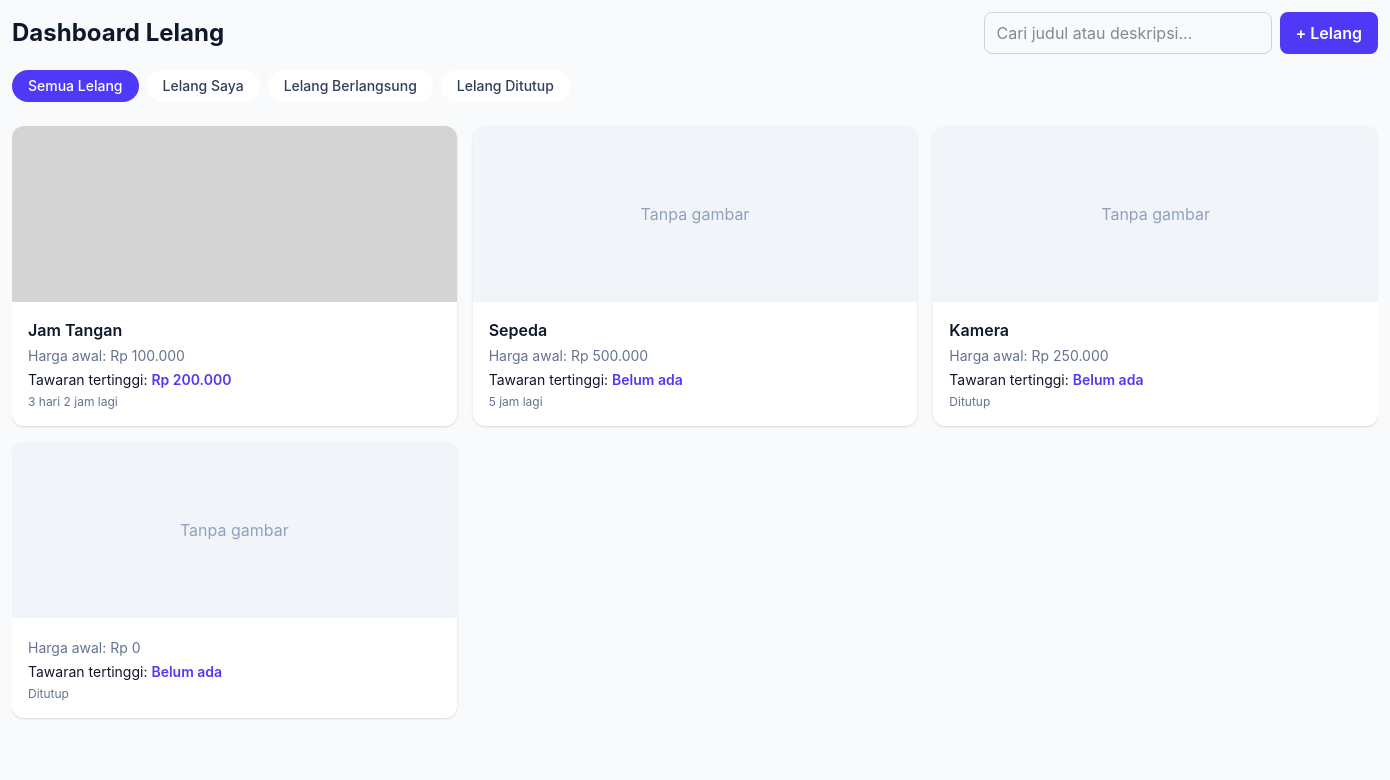
Test: pencarian › memfilter berdasarkan deskripsi
In the search field with placeholder "Cari judul atau deskripsi...": x=1128, y=33 [984,12,1272,54], type "lipat"
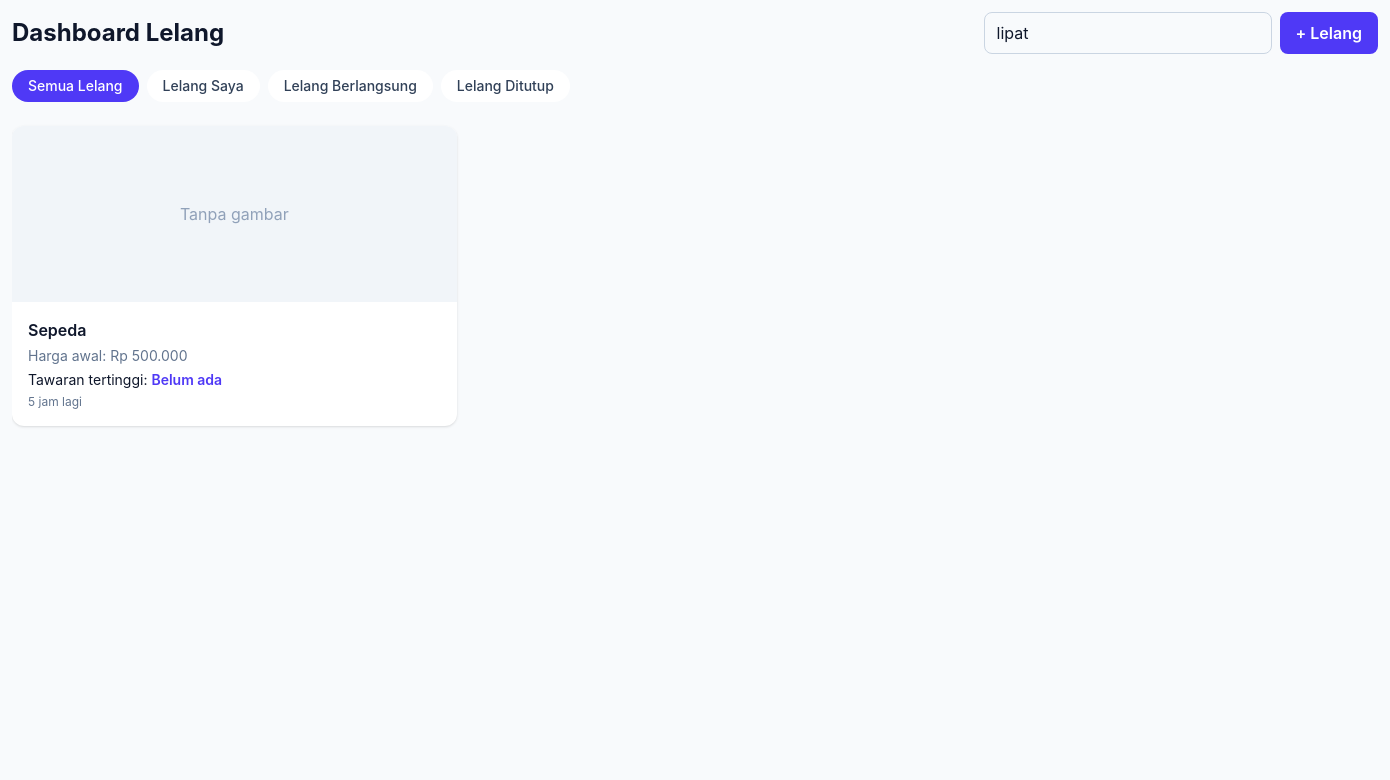
Check: the list item shows "Sepeda", box [12,126,457,426]
Check: the number of list items is 1, box [12,126,457,426]
